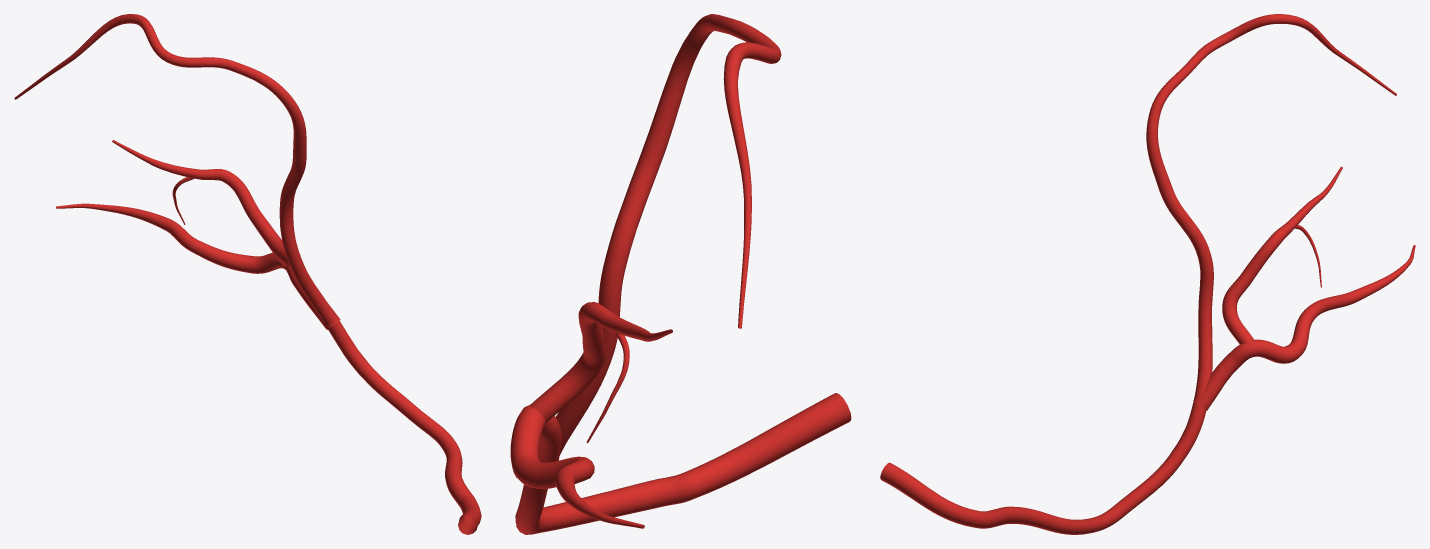
Rendered from circulatorio-posterior-parietal-artery-l.glb.
3 views of the same model, side by side, from view 1: azimuth 30°, elevation 25°; view 2: azimuth 150°, elevation 25°; view 3: azimuth 270°, elevation 25° (orthographic). The views are drawn at different scales.
Parts seen in each view (by area): view 1: Posterior parietal artery.l; view 2: Posterior parietal artery.l; view 3: Posterior parietal artery.l.
Part boxes in pixels (<box>): Posterior parietal artery.l: <box>14,14,481,534</box>; Posterior parietal artery.l: <box>510,14,851,534</box>; Posterior parietal artery.l: <box>880,14,1415,534</box>.
Size of the model in its own units: 0.0265 by 0.0382 by 0.0434.
